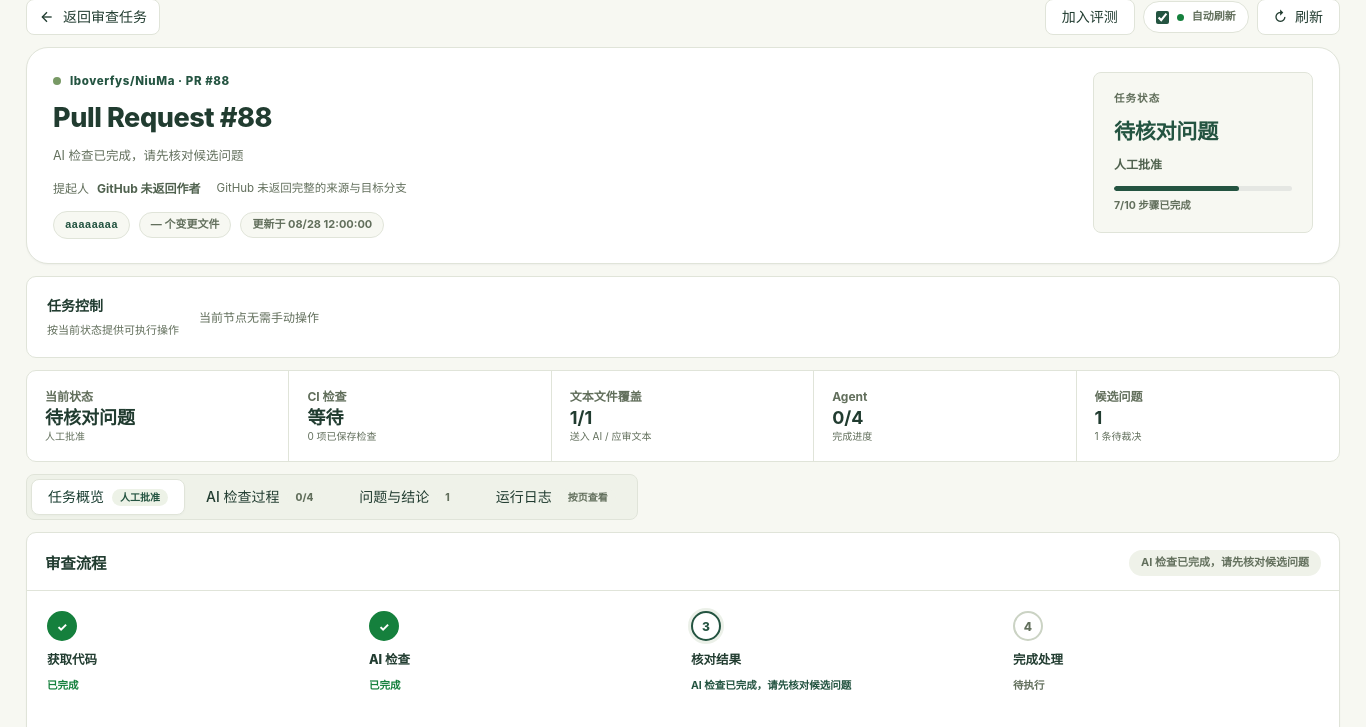
Test case: 保存请求超时仍显示明确超时提示，不当作正常取消隐藏
Click the button "问题与结论 1" at (408, 497), box [342,479,475,515]
(page scrolled)
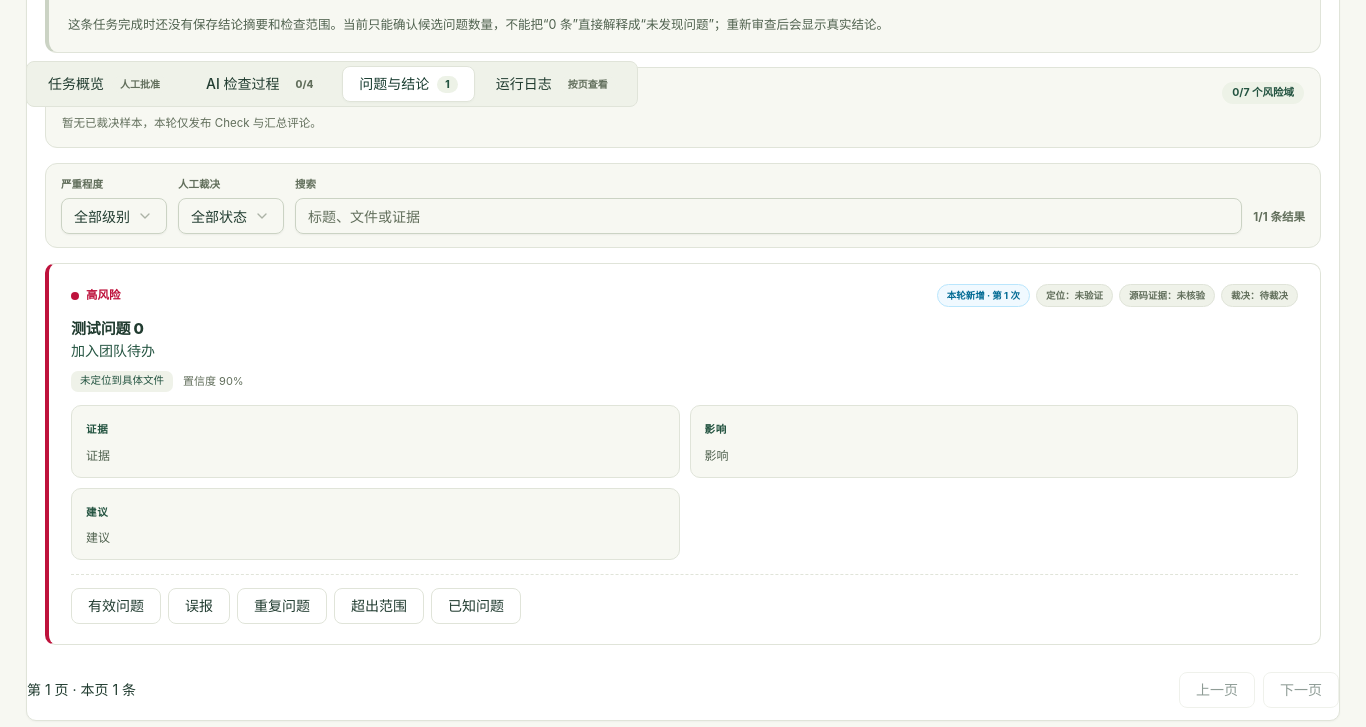
Check: the button "有效问题" is shown
Click the button "有效问题" at (116, 606), box [71,588,161,624]
Wait 30000 ms
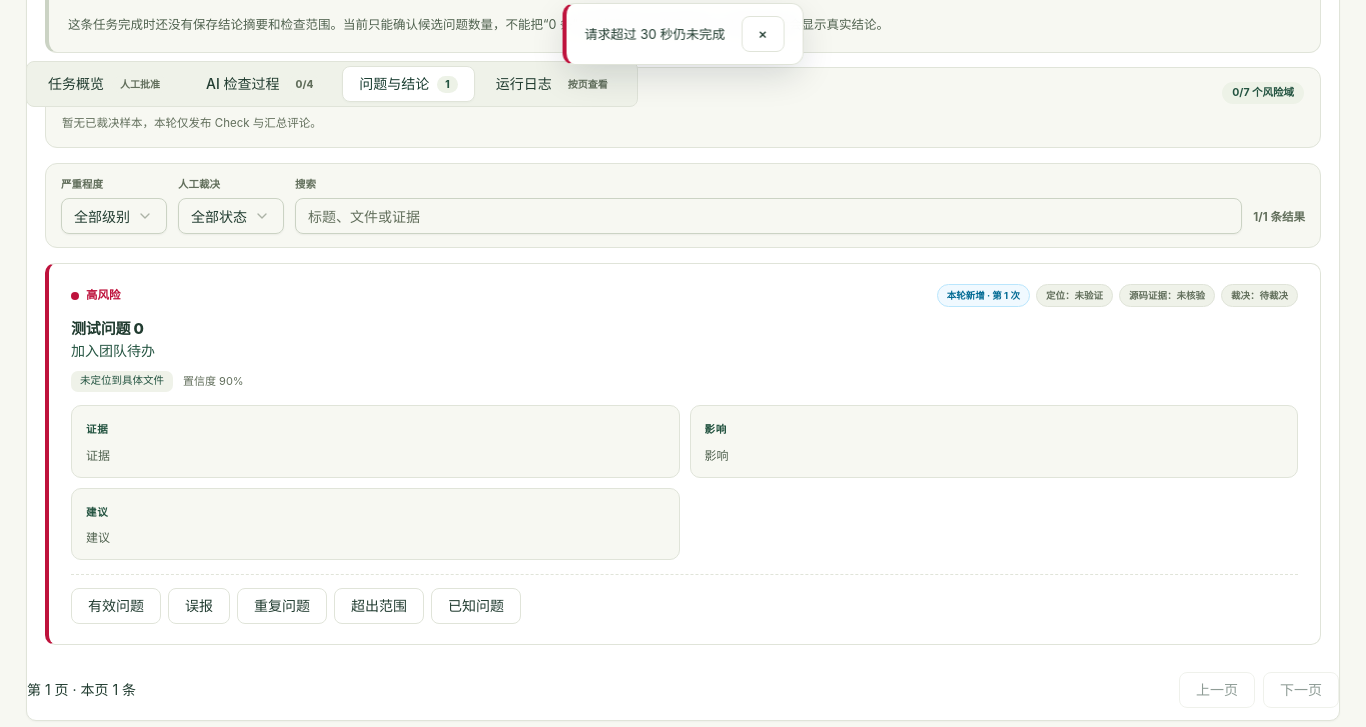
Check: the button "有效问题" is enabled, box [71,588,161,624]
Check: the message shows "请求超过 30 秒仍未完成", box [584,26,725,42]
